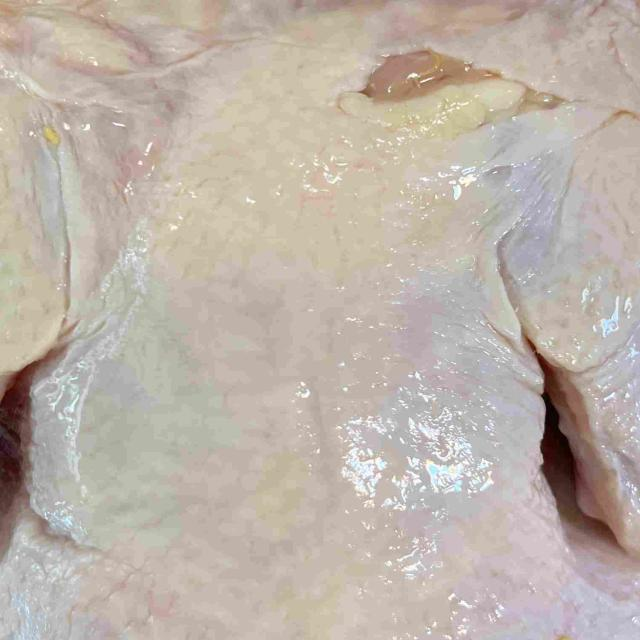back: (0, 105, 611, 640)
wing: (489, 62, 640, 550)
